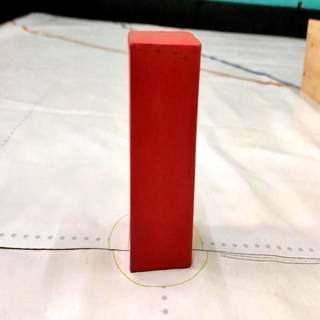redbox: (127, 30, 202, 274)
